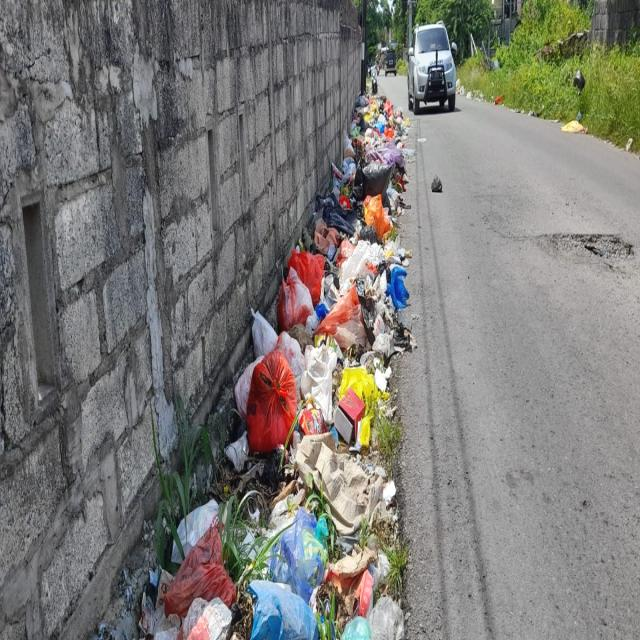garbage: (106, 106, 404, 624)
